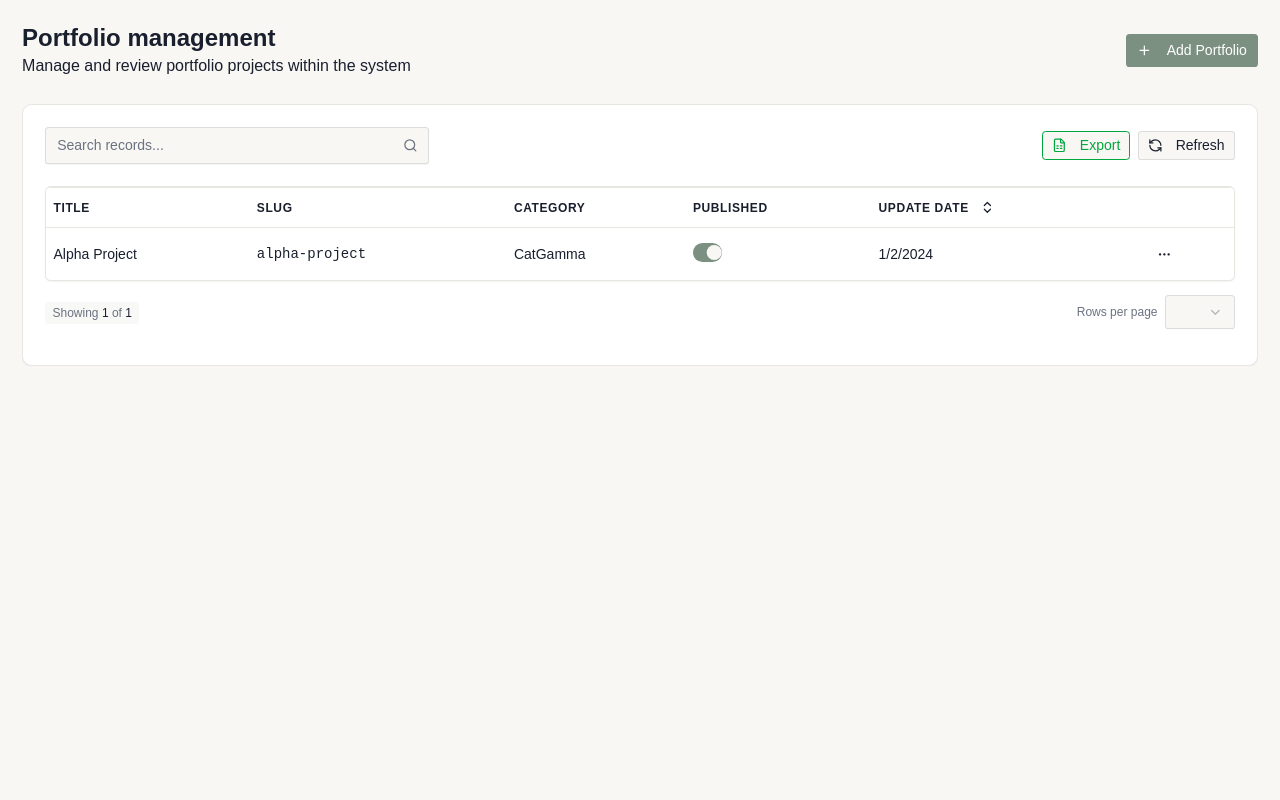
Test: AdminPortfolioManager - validation (Req 11.10) › blocks submit and shows field errors when required fields are missing
Expected: the text "Alpha Project" is shown, [54,246,137,262]
// Open create and submit immediately without filling anything.
Click the button "Add Portfolio": x=1192, y=50 [1126,34,1258,67]
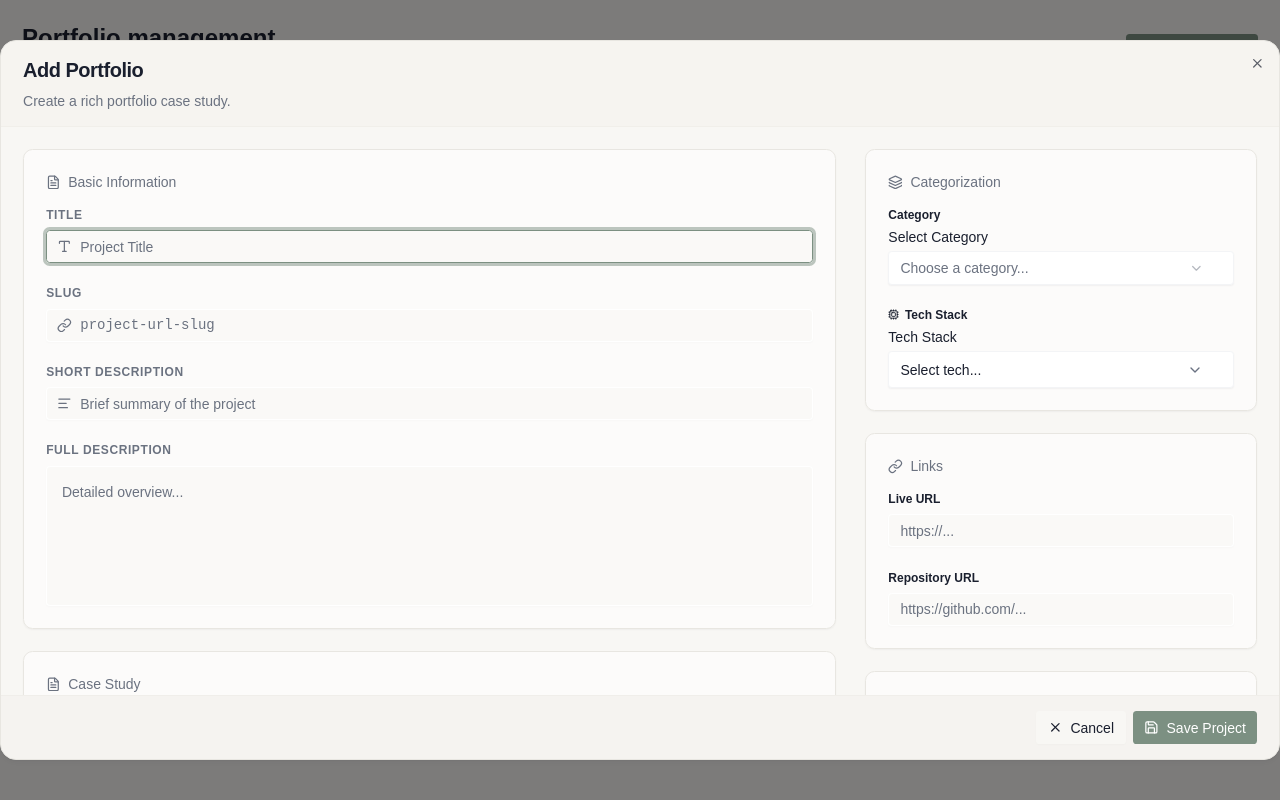
Expected: the field with placeholder "Project Title" is shown, [46,230,813,263]
Click the button "Save Project": x=1195, y=728 [1133,711,1257,744]
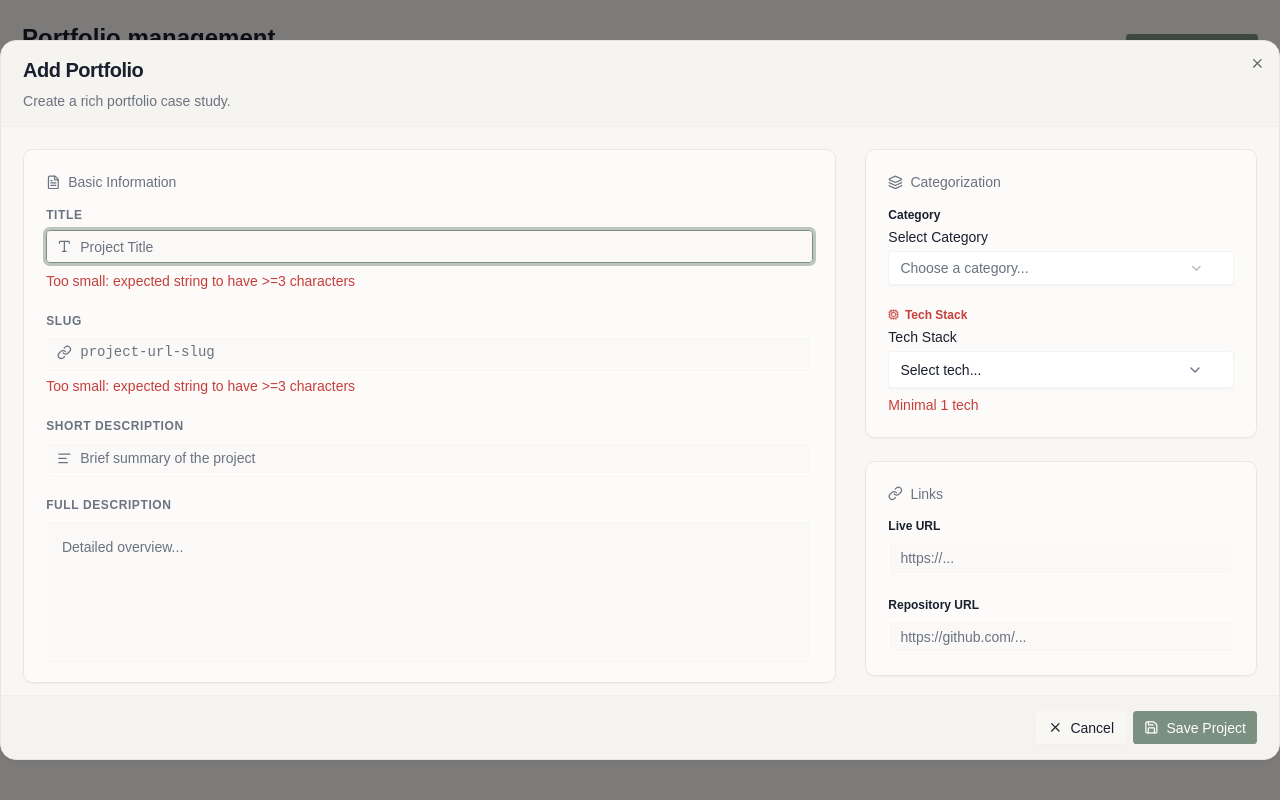
Expected: the text "Minimal 1 tech" is shown, [888,397,979,413]
